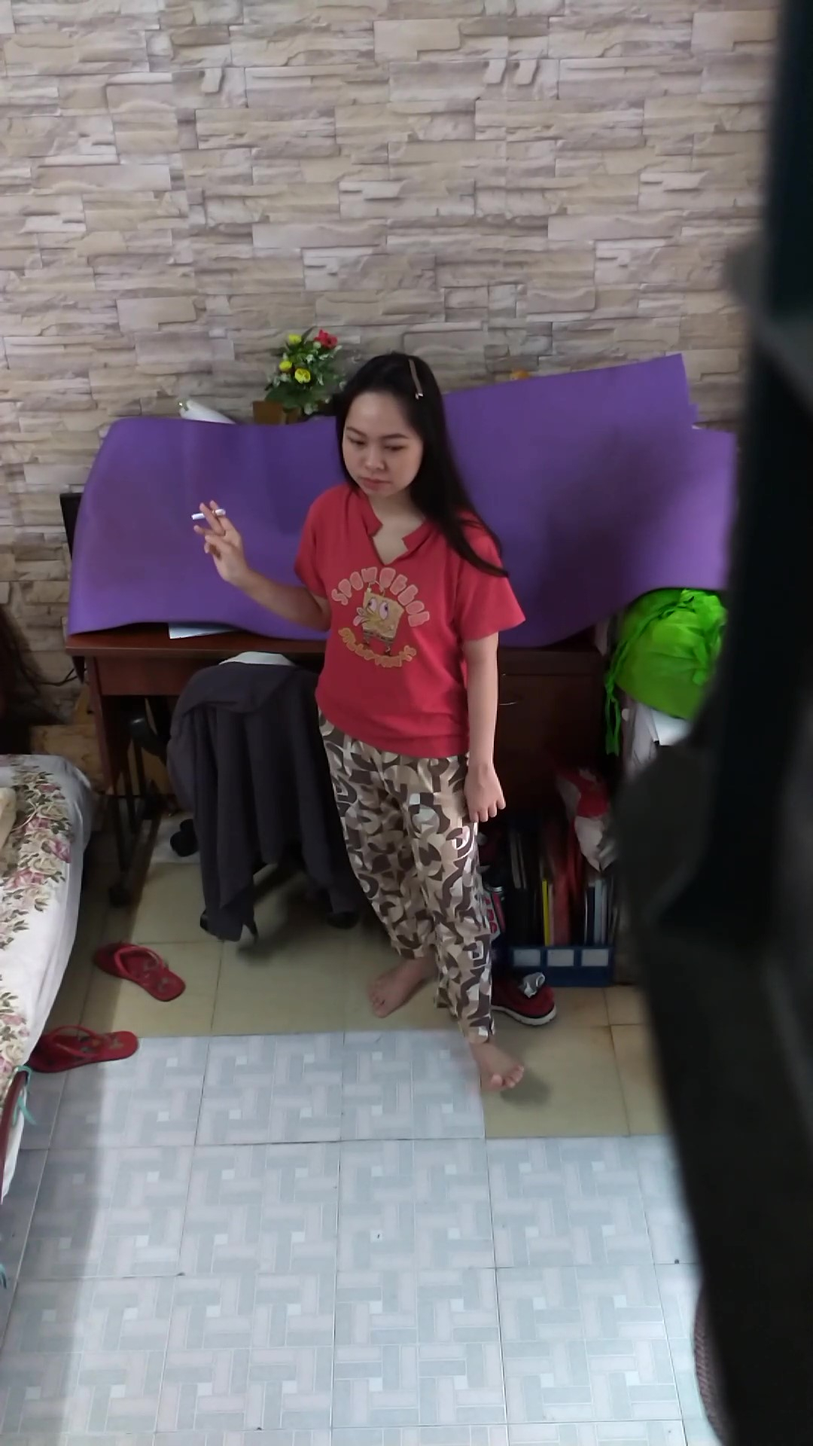cigarette: (187, 511, 206, 523)
person: (145, 352, 529, 1039)
